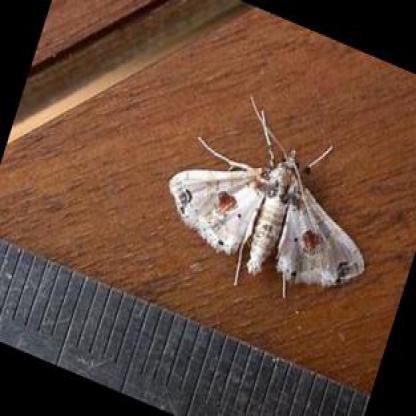leucinodes: (172, 149, 365, 285)
